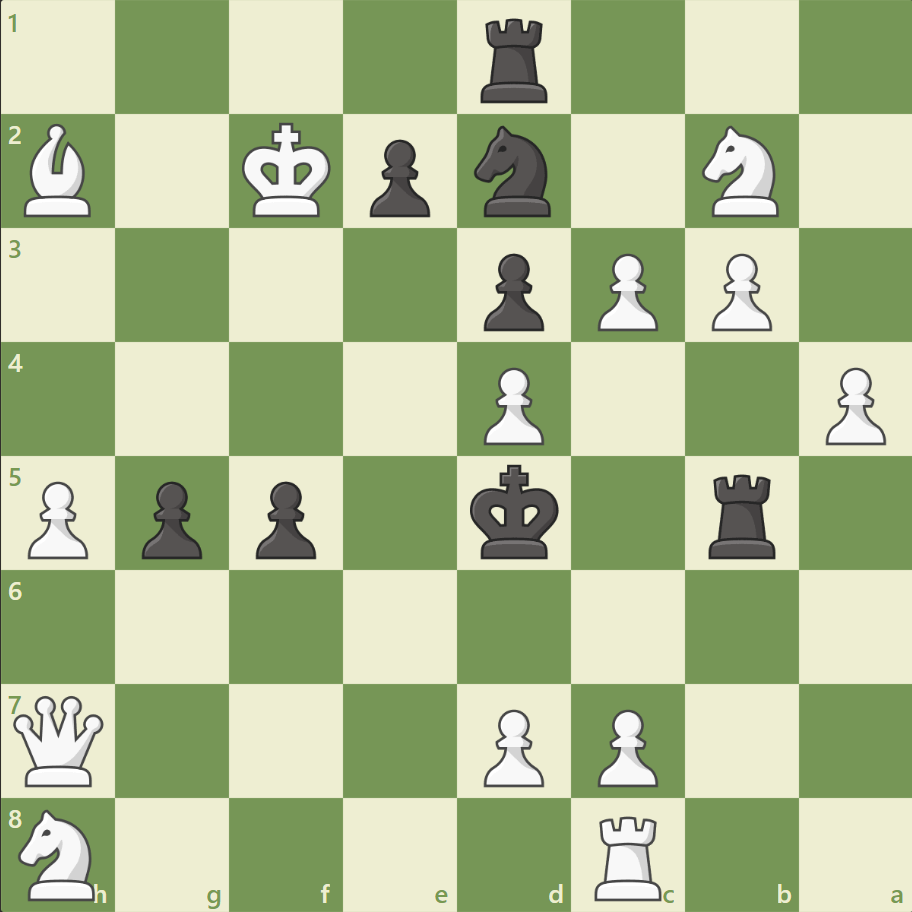B: (17, 120, 101, 222)
K: (238, 117, 338, 225)
N: (11, 802, 108, 904), (692, 121, 789, 223)
P: (474, 700, 549, 791), (20, 473, 95, 564), (474, 359, 549, 450), (701, 246, 776, 337), (588, 700, 662, 791), (815, 359, 889, 450), (588, 246, 662, 337)
Q: (10, 690, 109, 789)
R: (587, 806, 670, 904)
k: (465, 458, 565, 566)
n: (465, 121, 562, 223)
p: (247, 473, 322, 564), (133, 473, 208, 564), (474, 246, 549, 337), (361, 132, 435, 223)
r: (700, 466, 783, 563), (473, 12, 556, 109)
